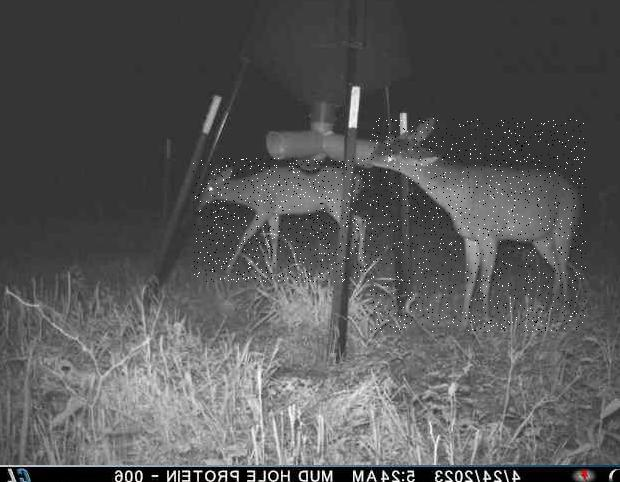Deer: (370, 118, 586, 332), (193, 158, 370, 282)
